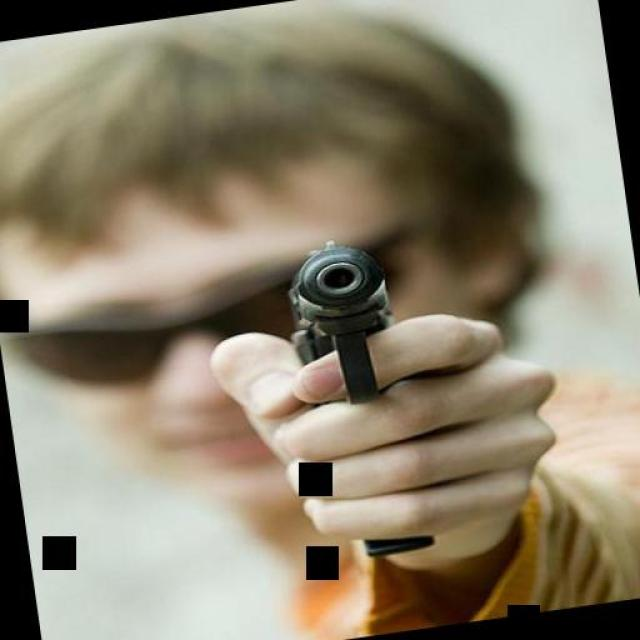gun: (278, 225, 452, 563)
